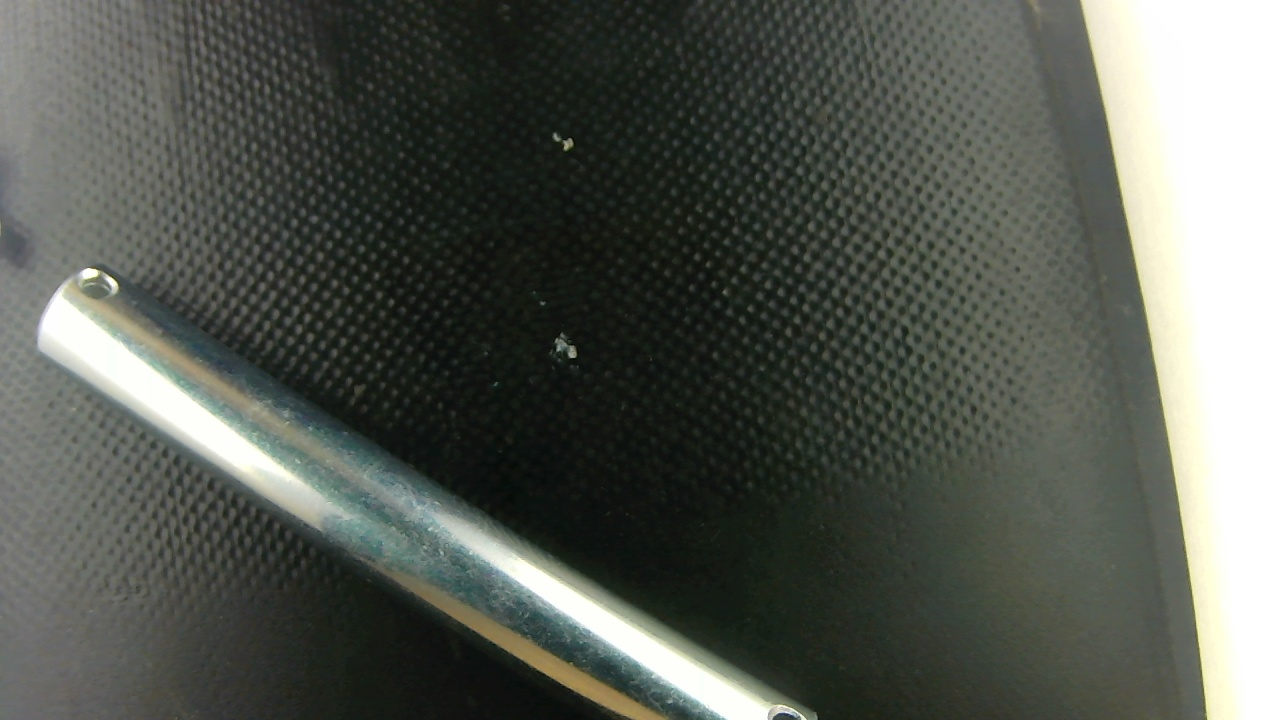Okay_Pin: (39, 267, 815, 719)
